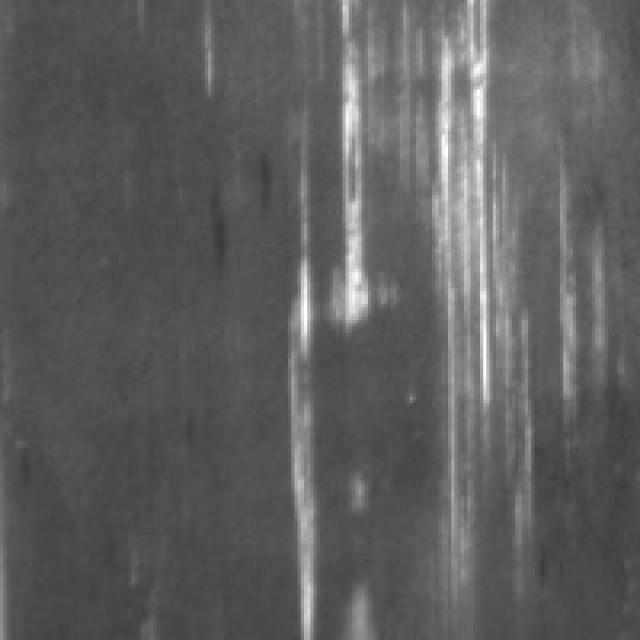scratches: (432, 0, 547, 422), (320, 0, 416, 333), (282, 246, 342, 637)
